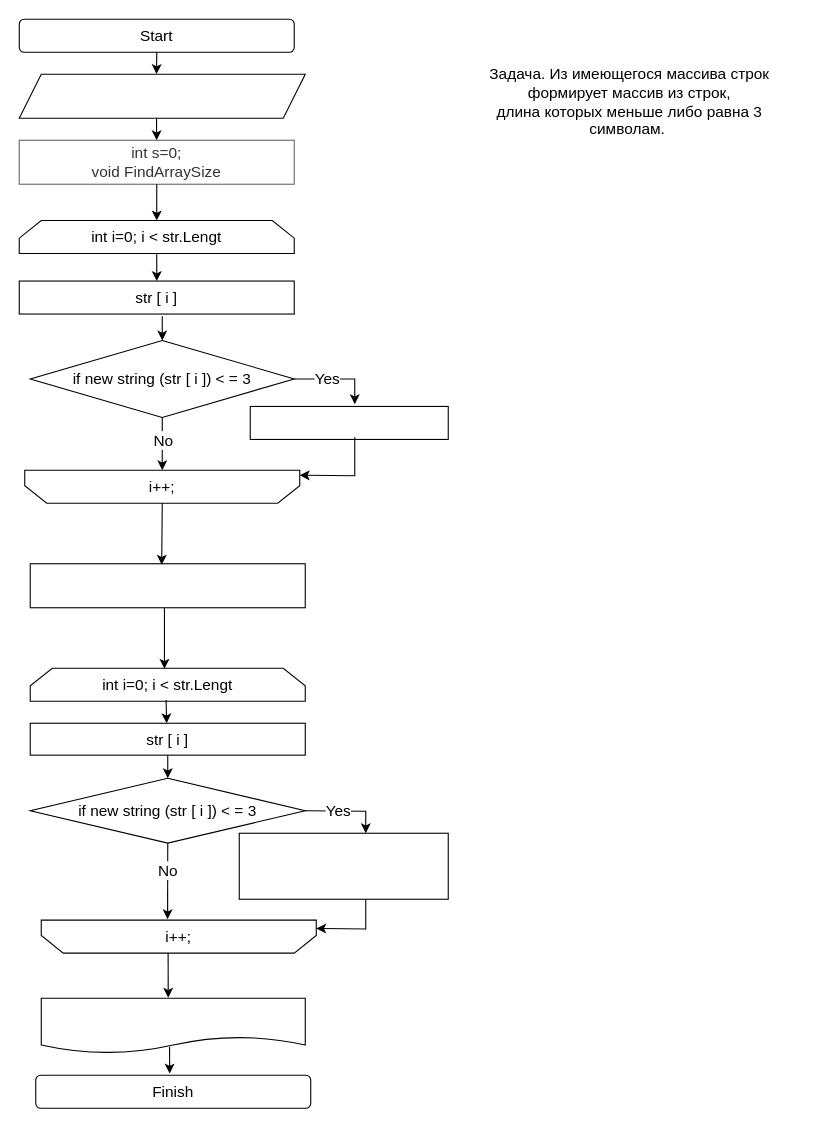
Image size: 820x1128. Some labels were removed from this diagram. The shapes that lost their labels are listed below. From the top down, each one's centre as x and y in pixels, then its label:
pixel 161 95: String[] str = {"hello","2","world",":-)"}
pixel 348 422: s++;
pixel 167 585: sting [ ] str2 = new void FindArraySize
pixel 343 865: str2 [str2.Lenght - s]= str[ i ]; s--;
pixel 172 1025: Print str2;
